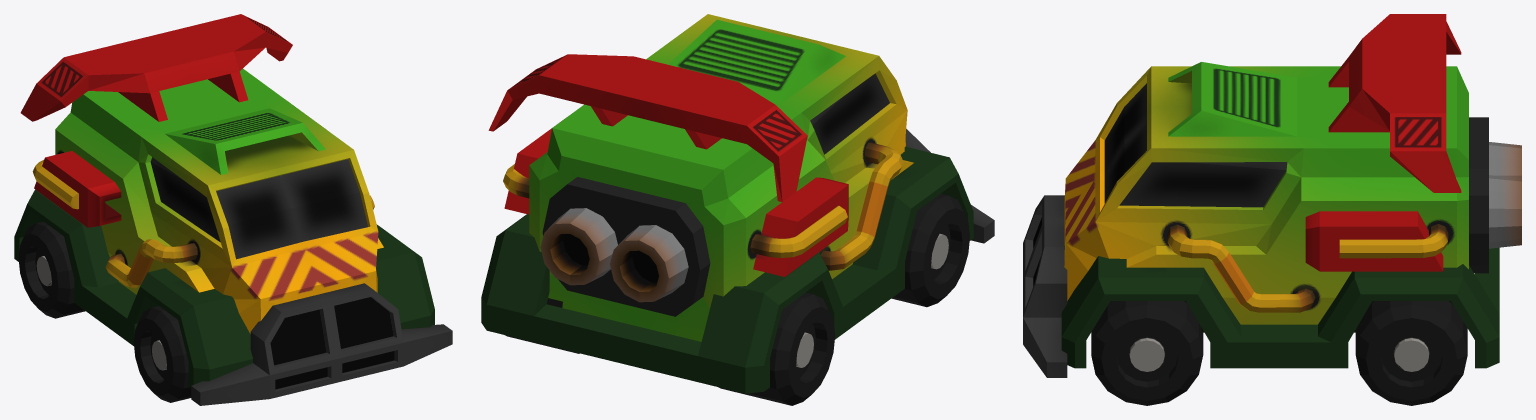
File: Car-7.fbx
3 views of the same model, side by side, from view 1: azimuth 30°, elevation 25°; view 2: azimuth 150°, elevation 25°; view 3: azimuth 270°, elevation 25° (orthographic). The views are drawn at different scales.
Visible parts, largest first — view 1: Cube.208, Plane.040, Cube.206, Cube.205, Cylinder.239, Cylinder.238, Cube.207, Plane.042, Plane.041; view 2: Cube.208, Plane.040, Cube.205, Cylinder.240, Cylinder.239, Cylinder.238, Cube.207, Plane.042, Plane.041, Cube.206; view 3: Cube.208, Plane.040, Cube.205, Cylinder.239, Cylinder.238, Cube.206, Cube.207, Plane.042, Cylinder.240, Plane.041.
Boxes of the visible parts, <box> form: Cube.208: <box>55,69,383,333</box>; Plane.040: <box>14,189,434,387</box>; Cube.206: <box>191,283,452,405</box>; Cube.205: <box>20,14,292,121</box>; Cylinder.239: <box>18,221,85,318</box>; Cylinder.238: <box>133,306,191,402</box>; Cube.207: <box>34,151,121,227</box>; Plane.042: <box>105,195,374,288</box>; Plane.041: <box>32,160,78,209</box>; Cube.208: <box>529,14,913,341</box>; Plane.040: <box>481,146,973,393</box>; Cube.205: <box>488,54,807,202</box>; Cylinder.240: <box>540,208,688,302</box>; Cylinder.239: <box>505,292,835,405</box>; Cylinder.238: <box>891,193,969,307</box>; Cube.207: <box>504,128,848,276</box>; Plane.042: <box>820,142,903,270</box>; Plane.041: <box>503,164,847,257</box>; Cube.206: <box>905,129,994,243</box>; Cube.208: <box>1064,62,1488,332</box>; Plane.040: <box>1061,247,1499,368</box>; Cube.205: <box>1328,14,1461,192</box>; Cylinder.239: <box>1355,301,1467,405</box>; Cylinder.238: <box>1091,301,1203,405</box>; Cube.206: <box>1023,195,1067,377</box>; Cube.207: <box>1305,211,1443,271</box>; Plane.042: <box>1167,224,1315,312</box>; Cylinder.240: <box>1489,142,1521,248</box>; Plane.041: <box>1339,224,1448,258</box>.
Bounding box in the file's own units: 272 × 241 × 396.
